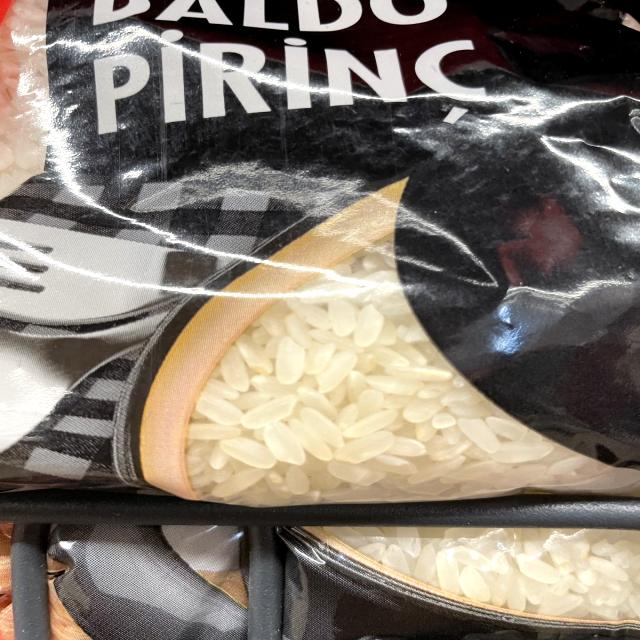rice: (233, 345, 428, 461)
